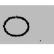no answer: (2, 15, 31, 37)
